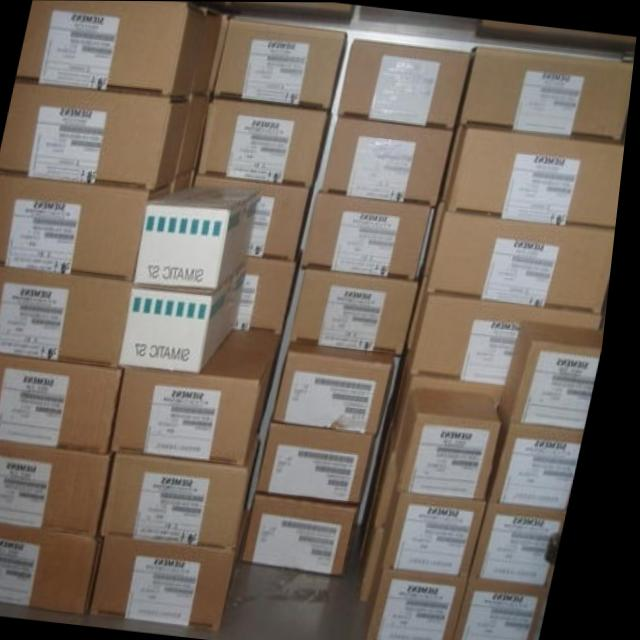box: (117, 326, 285, 468), (0, 77, 191, 188), (416, 276, 610, 385), (434, 203, 620, 315), (449, 119, 628, 226), (111, 434, 270, 550), (103, 515, 259, 631), (17, 0, 205, 95), (0, 167, 154, 278), (457, 45, 635, 138), (124, 263, 253, 374), (0, 263, 138, 366), (137, 184, 264, 292), (0, 350, 132, 452), (324, 111, 456, 208), (341, 37, 473, 130), (280, 337, 403, 436), (201, 97, 336, 187), (0, 437, 122, 536), (213, 19, 349, 106), (509, 320, 611, 433), (298, 268, 426, 357), (0, 520, 116, 618), (305, 191, 435, 278), (406, 389, 509, 498), (197, 172, 320, 261), (265, 417, 385, 508), (380, 530, 479, 640), (498, 396, 593, 509), (403, 357, 510, 455), (252, 491, 367, 578), (395, 488, 498, 576), (483, 500, 578, 587), (466, 578, 563, 640), (242, 248, 309, 336), (173, 93, 209, 185), (381, 427, 408, 531), (191, 8, 221, 95), (372, 513, 394, 601)
